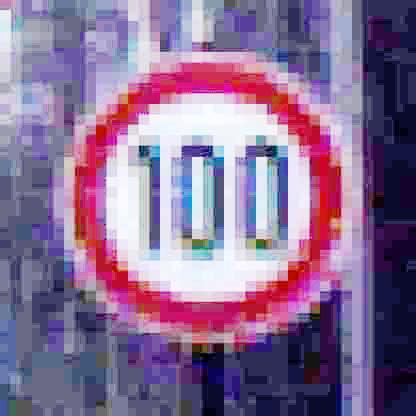Speed Limit -100-: (59, 55, 354, 342)
